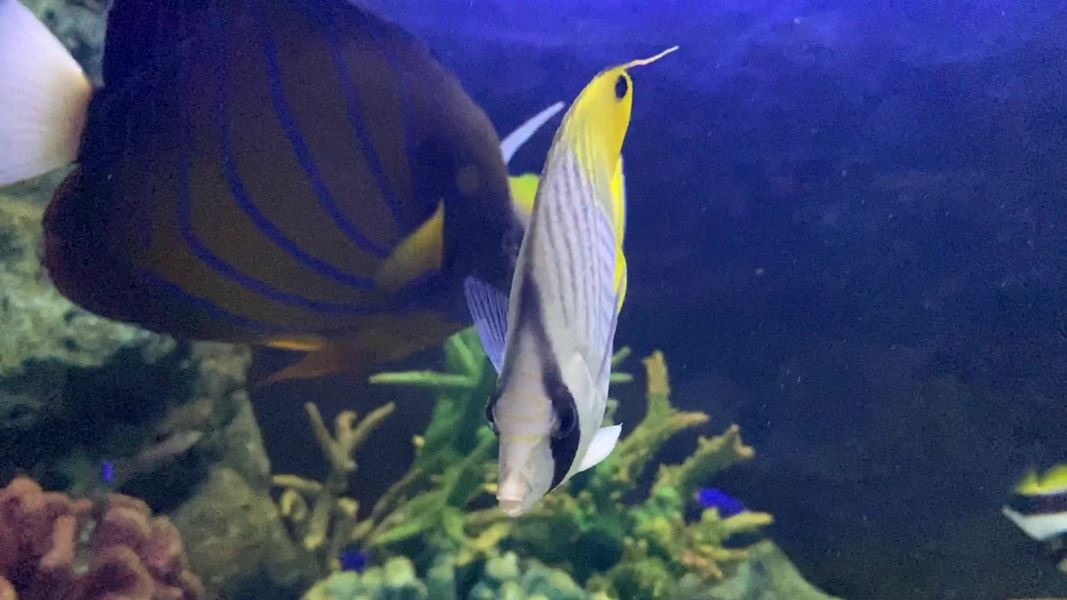Blue ring angelfish: (11, 1, 550, 410)
